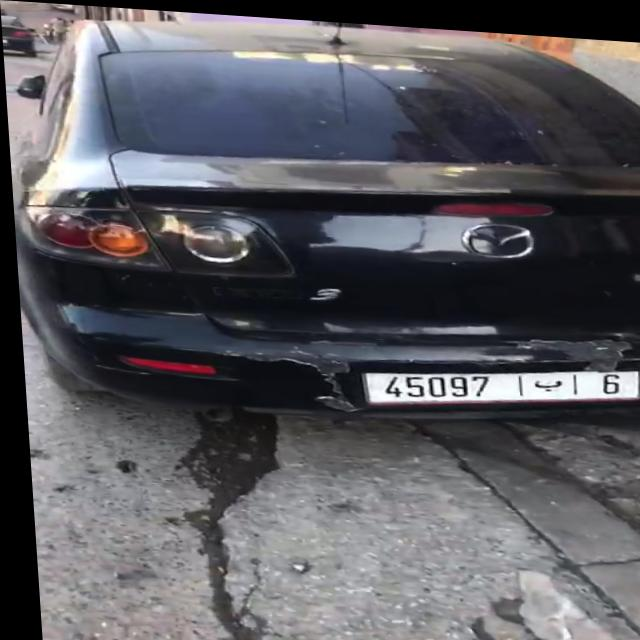License-Plate: (362, 363, 637, 401)
